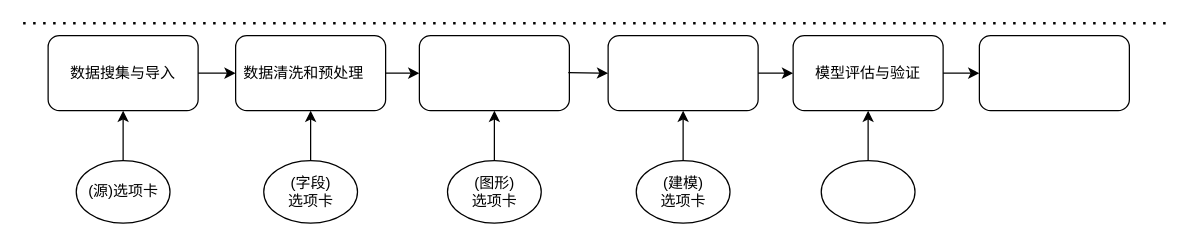
Some shapes in this 1196 by 245 pixel diagram are drawn without their labels. The centre of each missing label's shape, as x and y in pixels:
"(输出) 选项卡" belongs at (867,191).
"数据探索和可视化" belongs at (493,72).
"模型建立" belongs at (682,72).
"模型部署" belongs at (1053,72).
